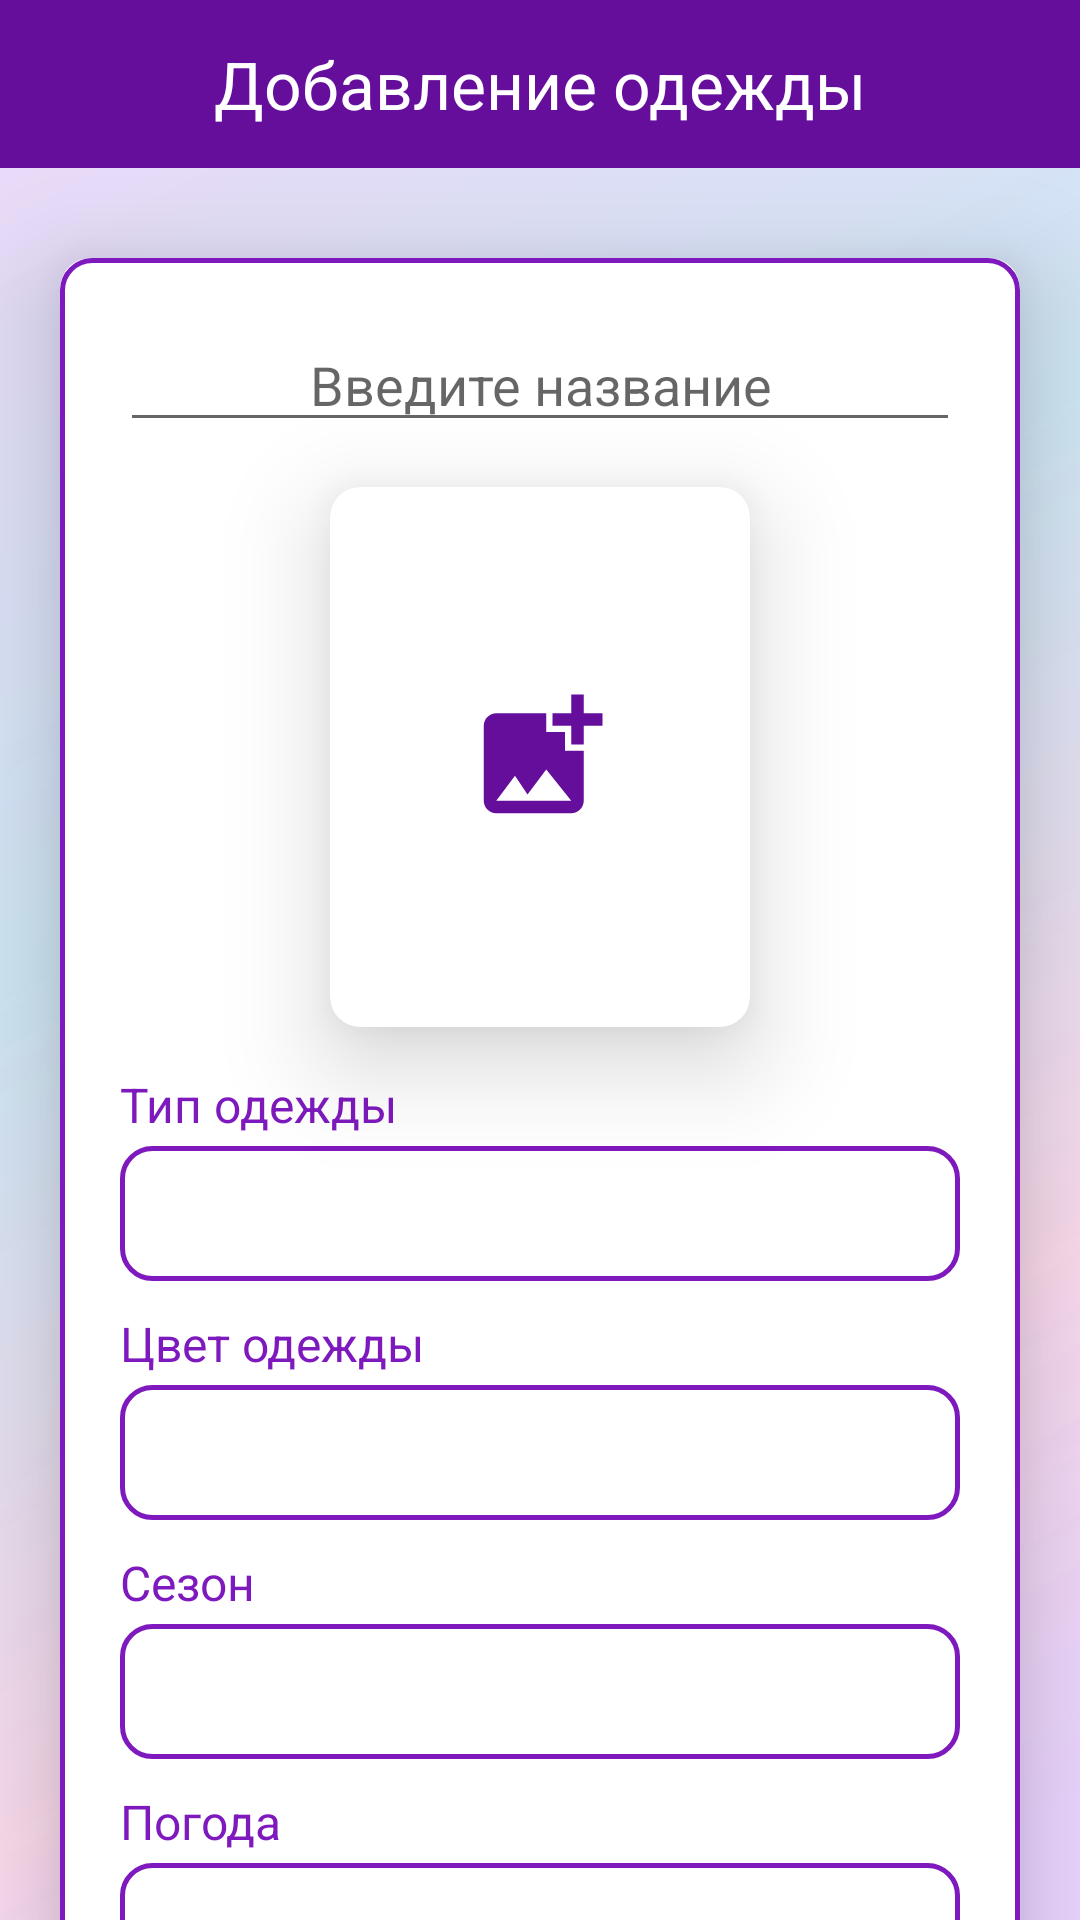

Icons on this 1080x1920 Android screen, each with its box as (x1, y1, x2, y2):
add photo alternate: (483, 694, 603, 814)
